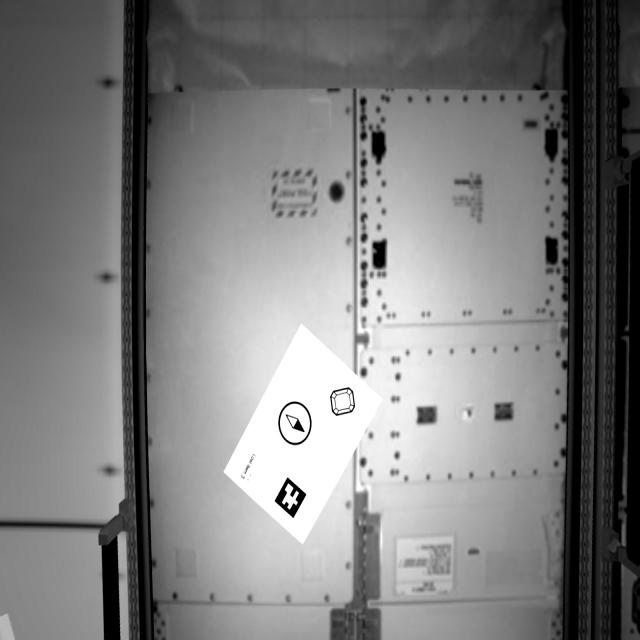compass: (277, 398, 315, 450)
emerald: (327, 384, 359, 418)
